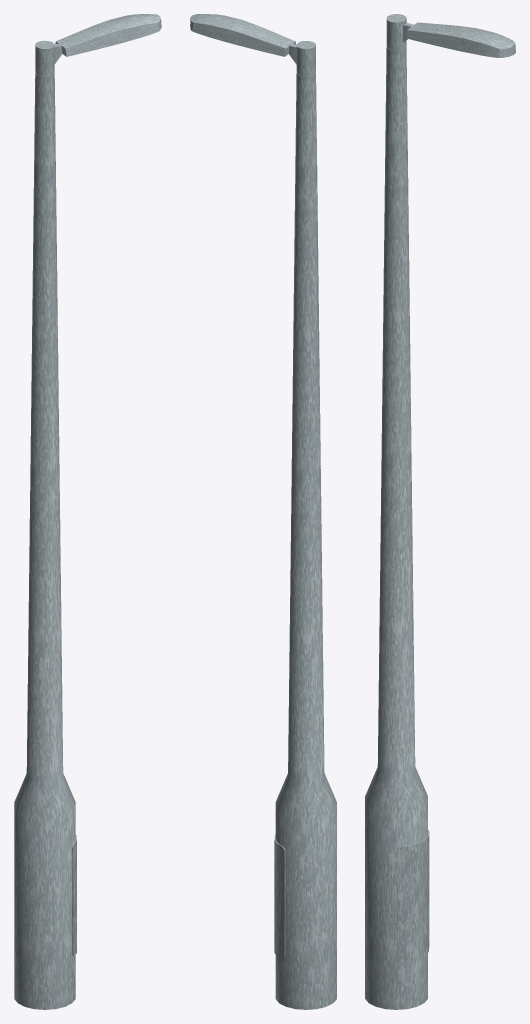
The model's file is street_lamp.FBX.
3 views of the same model, side by side, from view 1: azimuth 30°, elevation 25°; view 2: azimuth 150°, elevation 25°; view 3: azimuth 330°, elevation 25° (orthographic). The views are drawn at different scales.
Parts seen in each view (by area): view 1: street lamp, lamp hood, access cover; view 2: street lamp, lamp hood, access cover; view 3: street lamp, access cover, lamp hood.
Boxes of the visible parts, x1=… form: street lamp: x1=14, y1=40, x2=75, y2=1009; lamp hood: x1=55, y1=14, x2=161, y2=56; access cover: x1=72, y1=835, x2=76, y2=955; street lamp: x1=275, y1=41, x2=336, y2=1009; lamp hood: x1=190, y1=14, x2=295, y2=56; access cover: x1=274, y1=835, x2=285, y2=959; street lamp: x1=365, y1=14, x2=427, y2=1009; access cover: x1=397, y1=830, x2=429, y2=962; lamp hood: x1=407, y1=22, x2=515, y2=57.
Size of the model in its own units: 22.24 by 144 by 8.41.
2 materials, 2 textured.
